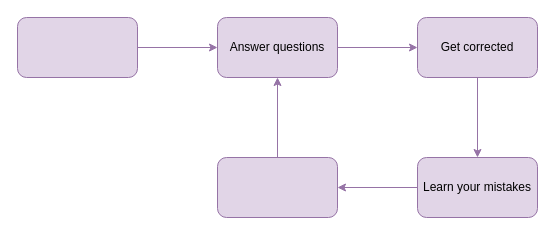
Image size: 555x235. Some labels were removed from this diagram. The shapes that lost their labels are listed below. From the top down, each one's centre as x and y in pixels, then its label:
At point 77,47: "Upload notes".
At point 277,187: "Know more about the topic".
